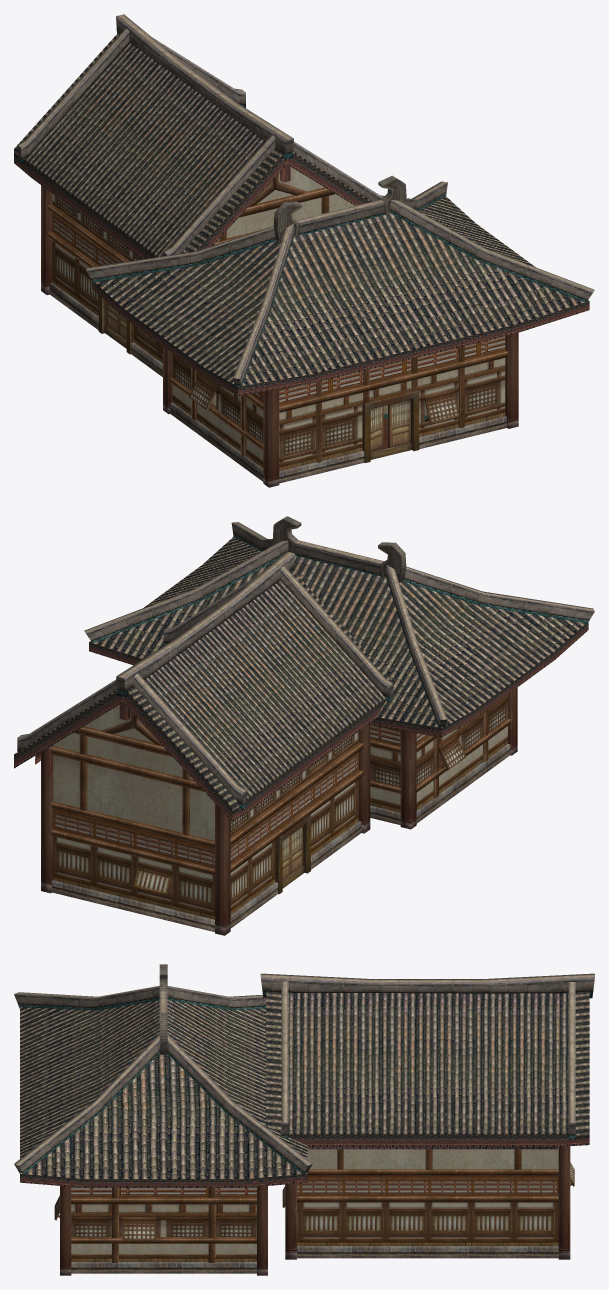
The model's file is jianzhu02.FBX.
3 renders of one model, top to bottom at view 1: azimuth 30°, elevation 25°; view 2: azimuth 150°, elevation 25°; view 3: azimuth 270°, elevation 25°, orthographic. The views are drawn at different scales.
Parts seen in each view (by area): view 1: jianzhu01_01, jianzhu06, jianzhu05, jianzhu04, jianzhu03, jianzhu07; view 2: jianzhu01_01, jianzhu05, jianzhu06, jianzhu07, jianzhu03, jianzhu04; view 3: jianzhu01_01, jianzhu05, jianzhu06, jianzhu07, jianzhu03, jianzhu04.
Part boxes in pixels (x1,y1,x2,y2): jianzhu01_01: (14,14,594,395); jianzhu06: (48,187,507,470); jianzhu05: (41,185,518,487); jianzhu04: (98,175,428,462); jianzhu03: (172,167,354,460); jianzhu07: (52,174,308,363); jianzhu01_01: (14,522,594,821); jianzhu05: (41,687,517,935); jianzhu06: (51,698,510,875); jianzhu07: (53,711,358,919); jianzhu03: (53,705,507,840); jianzhu04: (273,516,439,894); jianzhu01_01: (14,973,594,1187); jianzhu05: (60,1146,570,1275); jianzhu06: (54,1149,558,1262); jianzhu07: (282,1162,574,1245); jianzhu03: (71,1147,558,1254); jianzhu04: (159,964,167,1054).
Size of the model in its own units: 819 by 528 by 1158.
